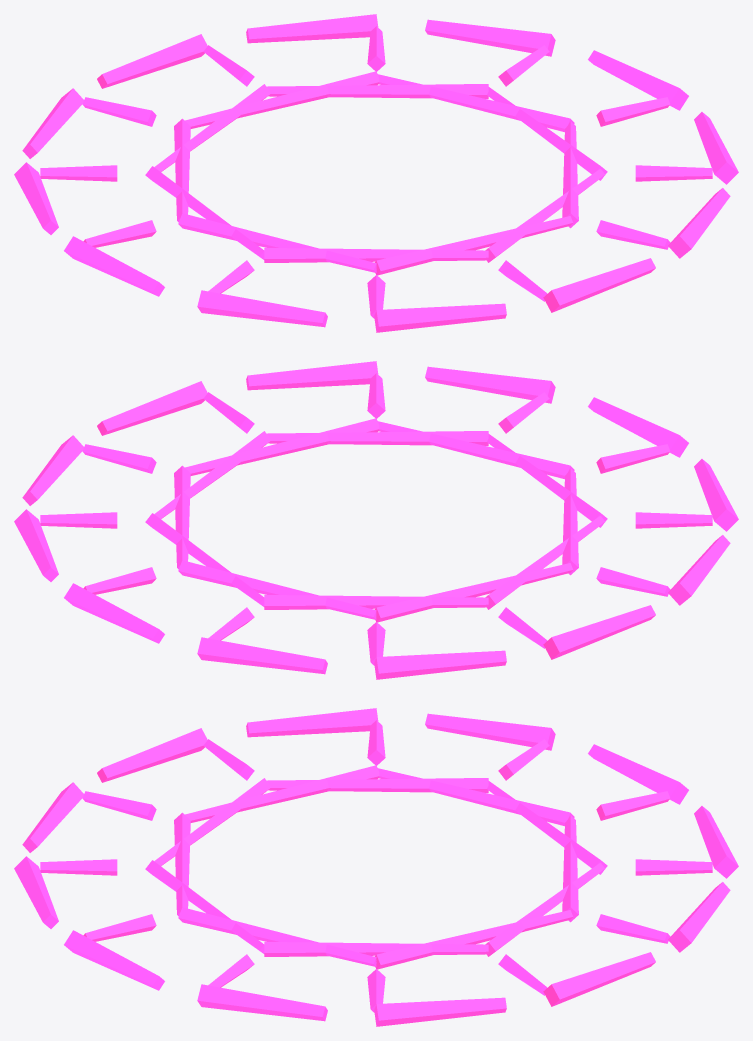
Rendered from blood_glyph.glb.
The picture shows the model from 3 angles, top to bottom: view 1: azimuth 30°, elevation 25°; view 2: azimuth 150°, elevation 25°; view 3: azimuth 270°, elevation 25°; orthographic projection.
Parts seen in each view (by area): view 1: blood_glyph; view 2: blood_glyph; view 3: blood_glyph.
Part boxes in pixels (x1,y1,x2,y2): blood_glyph: (14,14,738,332); blood_glyph: (14,361,738,679); blood_glyph: (14,708,738,1026).
Bounding box in the file's own units: 1.04 × 0.036 × 1.04.
